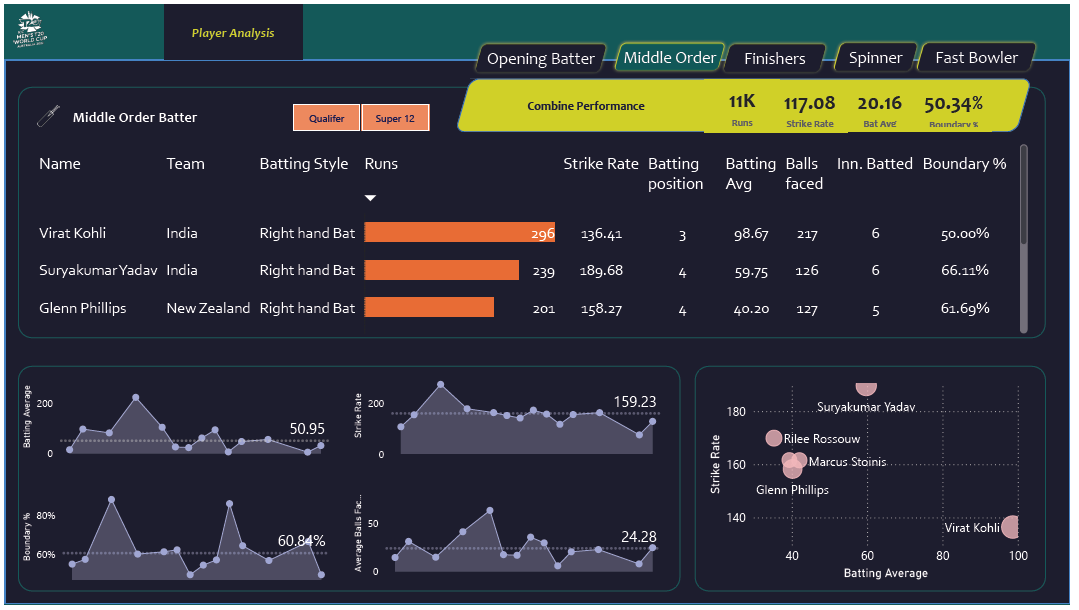

Layout of this report page (visuals, bound fields, positions):
{"tool":"powerbi","page":{"name":"Middle order","canvas":[1280,720],"ordinal":1},"visuals":[{"type":"shape","box":[0,66.1,1280,654.3],"z":0},{"type":"card","fields":{"Values":["key_measures.Total Runs"]},"box":[840.5,90.2,91.3,62.8],"z":0,"group":"g3"},{"type":"group","id":"g1","title":"Group 2","box":[82.2,119.9,237.8,30.4],"z":0,"group":"g2"},{"type":"shape","box":[82.2,119.9,237.8,30.4],"z":0,"group":"g1"},{"type":"card","fields":{"Values":["key_measures.Boundary %"]},"box":[1094.4,96.2,91.3,56],"z":1000,"group":"g3"},{"type":"shape","box":[16.1,98.3,1235.3,302.1],"z":1000},{"type":"image","box":[30.4,116.2,44,36],"z":1000,"group":"g2"},{"type":"card","fields":{"Values":["key_measures.Batting Average"]},"box":[1005.3,95.6,91.3,55.7],"z":2000,"group":"g3"},{"type":"card","fields":{"Values":["key_measures.Strike Rate"]},"box":[921.1,94.2,91.3,58.5],"z":3000,"group":"g3"},{"type":"shape","box":[15.7,433.8,796.3,271.1],"z":3000},{"type":"shape","box":[829.1,433.8,422.4,271.1],"z":4000},{"type":"tableEx","fields":{"Values":["fact_batting_summary.batsmanName","dim_players.team","dim_players.battingStyle","key_measures.Total Runs","key_measures.Strike Rate","key_measures.Batting position","key_measures.Batting Average","key_measures.Total Balls faced","key_measures.Total Innings Batted","key_measures.Boundary %"]},"box":[30,162.7,1204.4,236.9],"z":5000},{"type":"scatterChart","fields":{"Y":["key_measures.Strike Rate"],"X":["key_measures.Batting Average"],"Category":["fact_batting_summary.batsmanName"],"Size":["key_measures.Total Runs"]},"box":[840.5,442.4,393.8,252.6],"z":6000},{"type":"areaChart","fields":{"Y":["key_measures.Batting Average"],"Category":["dim_match_summary.matchDate.Variation.Date Hierarchy.Year","dim_match_summary.matchDate.Variation.Date Hierarchy.Month","dim_match_summary.matchDate.Variation.Date Hierarchy.Day"]},"box":[16.1,434.4,379,119.8],"z":7000},{"type":"areaChart","fields":{"Category":["dim_match_summary.matchDate.Variation.Date Hierarchy.Year","dim_match_summary.matchDate.Variation.Date Hierarchy.Month","dim_match_summary.matchDate.Variation.Date Hierarchy.Day"],"Y":["key_measures.Boundary %"]},"box":[15.7,575.1,379.6,119.9],"z":8000},{"type":"areaChart","fields":{"Category":["dim_match_summary.matchDate.Variation.Date Hierarchy.Year","dim_match_summary.matchDate.Variation.Date Hierarchy.Month","dim_match_summary.matchDate.Variation.Date Hierarchy.Day"],"Y":["key_measures.Average Balls Faced"]},"box":[413.8,575.1,379.6,119.9],"z":9000},{"type":"areaChart","fields":{"Category":["dim_match_summary.matchDate.Variation.Date Hierarchy.Year","dim_match_summary.matchDate.Variation.Date Hierarchy.Month","dim_match_summary.matchDate.Variation.Date Hierarchy.Day"],"Y":["key_measures.Strike Rate"]},"box":[413.8,433.8,379.6,119.9],"z":10000},{"type":"group","id":"g2","title":"Group 1","box":[30.4,116.2,289.5,36],"z":11000},{"type":"slicer","fields":{"Values":["dim_match_summary.Stages"]},"box":[320,110.8,214.5,48.3],"z":12000},{"type":"shape","box":[540.8,88.5,693.5,64.2],"z":13000},{"type":"shape","box":[583.6,102.7,229.7,35.7],"z":14000},{"type":"group","id":"g3","title":"Group 3","box":[840.5,90.2,345.2,62.8],"z":15000},{"type":"image","box":[5.7,0,48.5,58.5],"z":17000},{"type":"actionButton","box":[859,42.8,132.7,41.4],"z":18000},{"type":"actionButton","box":[991.8,42,109.9,41.4],"z":19000},{"type":"actionButton","box":[1091.6,42,152.7,41.4],"z":20000},{"type":"actionButton","title":"Button Player Ana selected","box":[191,0,166,66],"z":21000},{"type":"actionButton","box":[560.8,42.8,167,41.4],"z":22000},{"type":"shape","box":[727.8,42,142.7,41.4],"z":23000}]}

Visuals, with their boxes in screenshot pixels (x1, y1, x2, y2), scaled from the page's 1280x720 canvas onto the 1079x610 screenshot:
shape: bbox=[0, 56, 1078, 609]
card - key_measures.Total Runs: bbox=[709, 76, 785, 130]
"Group 2" group: bbox=[69, 102, 270, 127]
shape: bbox=[69, 102, 270, 127]
card - key_measures.Boundary %: bbox=[923, 82, 1000, 129]
shape: bbox=[14, 83, 1055, 339]
image: bbox=[26, 98, 63, 129]
card - key_measures.Batting Average: bbox=[847, 81, 924, 128]
card - key_measures.Strike Rate: bbox=[776, 80, 853, 129]
shape: bbox=[13, 368, 684, 597]
shape: bbox=[699, 368, 1055, 597]
tableEx - fact_batting_summary.batsmanName x dim_players.team: bbox=[25, 138, 1041, 339]
scatterChart - key_measures.Strike Rate x key_measures.Batting Average: bbox=[709, 375, 1040, 589]
areaChart - key_measures.Batting Average x dim_match_summary.matchDate.Variation.Date Hierarchy.Year: bbox=[14, 368, 333, 470]
areaChart - dim_match_summary.matchDate.Variation.Date Hierarchy.Year x dim_match_summary.matchDate.Variation.Date Hierarchy.Month: bbox=[13, 487, 333, 589]
areaChart - dim_match_summary.matchDate.Variation.Date Hierarchy.Year x dim_match_summary.matchDate.Variation.Date Hierarchy.Month: bbox=[349, 487, 669, 589]
areaChart - dim_match_summary.matchDate.Variation.Date Hierarchy.Year x dim_match_summary.matchDate.Variation.Date Hierarchy.Month: bbox=[349, 368, 669, 469]
"Group 1" group: bbox=[26, 98, 270, 129]
slicer - dim_match_summary.Stages: bbox=[270, 94, 451, 135]
shape: bbox=[456, 75, 1040, 129]
shape: bbox=[492, 87, 686, 117]
"Group 3" group: bbox=[709, 76, 1000, 130]
image: bbox=[5, 0, 46, 50]
actionButton: bbox=[724, 36, 836, 71]
actionButton: bbox=[836, 36, 929, 71]
actionButton: bbox=[920, 36, 1049, 71]
"Button Player Ana selected" actionButton: bbox=[161, 0, 301, 56]
actionButton: bbox=[473, 36, 614, 71]
shape: bbox=[614, 36, 734, 71]
